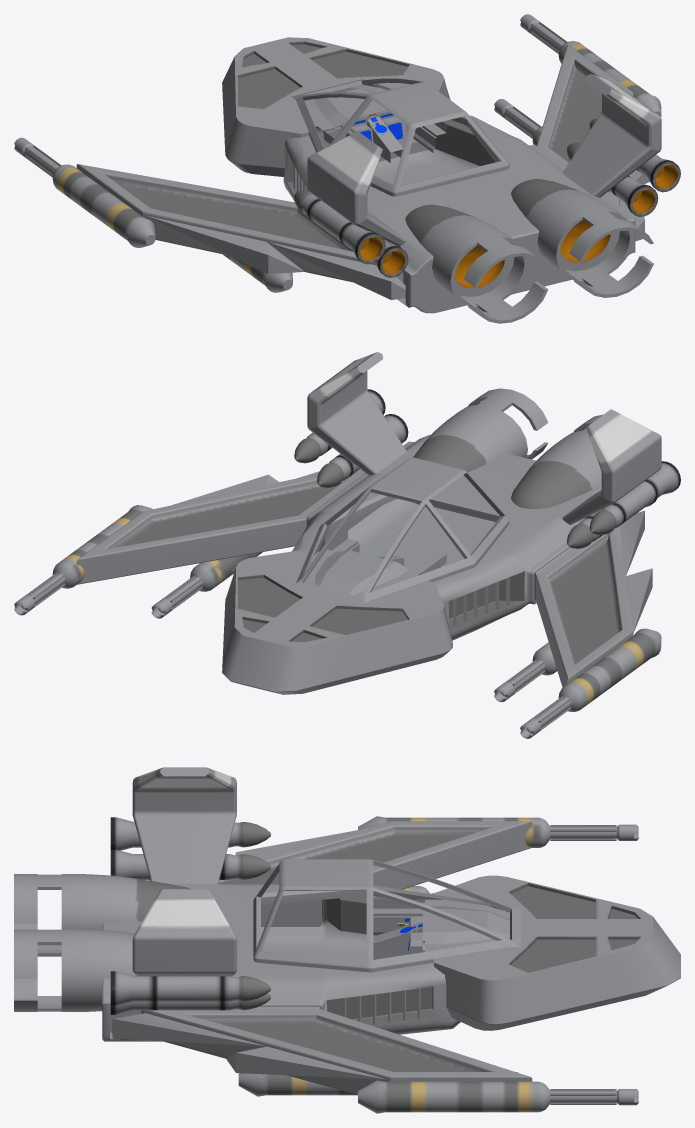
The model's file is cockpit_prototype.gltf.
The picture shows the model from 3 angles, top to bottom: view 1: azimuth 30°, elevation 25°; view 2: azimuth 150°, elevation 25°; view 3: azimuth 270°, elevation 25°; orthographic projection. The views are drawn at different scales.
Visible parts, largest first — view 1: Ship_n_Cockpit; view 2: Ship_n_Cockpit; view 3: Ship_n_Cockpit.
Part boxes in pixels (x1,y1,x2,y2): Ship_n_Cockpit: (14, 14, 680, 323); Ship_n_Cockpit: (14, 352, 680, 738); Ship_n_Cockpit: (14, 767, 680, 1113).
Bounding box in the file's own units: 15.46 × 4.6 × 15.65.
Materials: 3 (2 with a texture image).
